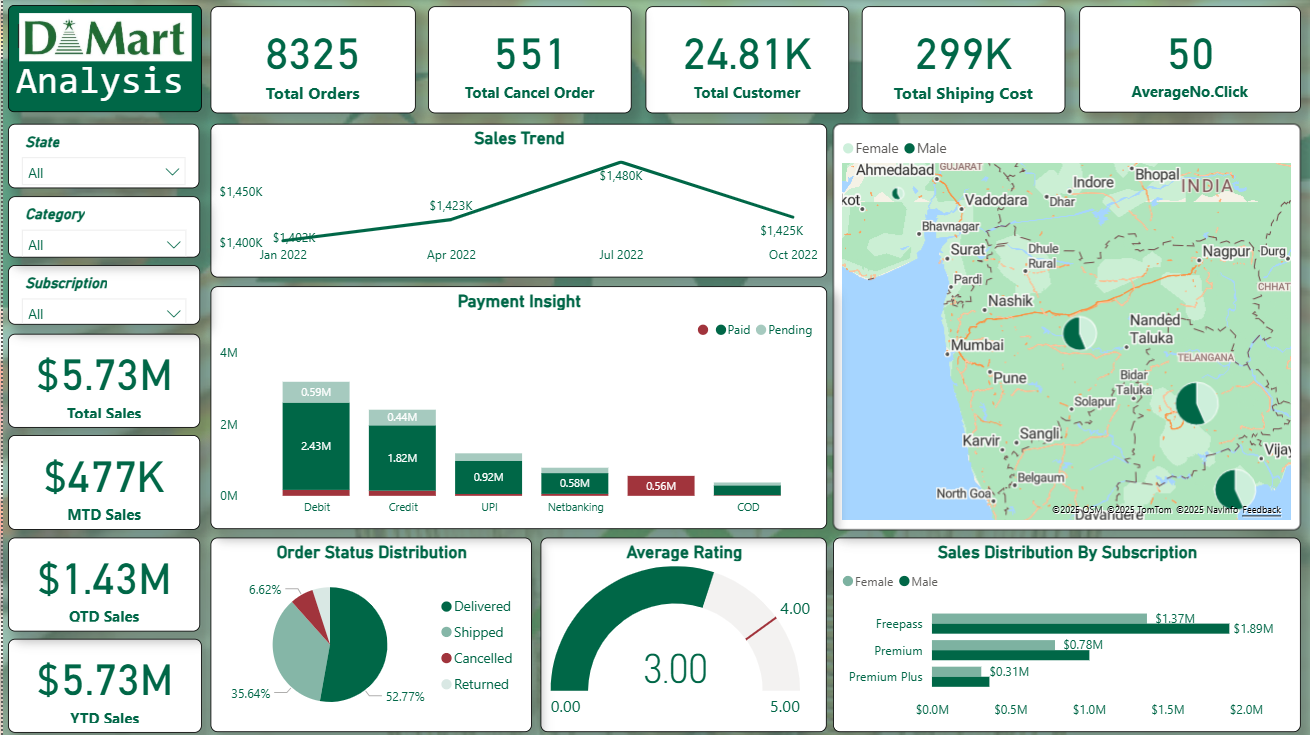

What the dashboard file says about the page in this screenshot:
{"tool":"powerbi","page":{"name":"DMART Analysis Dashboard","canvas":[1280,720],"ordinal":2},"visuals":[{"type":"textbox","box":[4.9,4.9,189.5,105.2],"z":0},{"type":"card","fields":{"Values":["MeasureTable.TotalCustomer"]},"box":[628.5,6.1,199.3,105.2],"z":1000},{"type":"card","fields":{"Values":["Table.Total Sales"]},"box":[4.9,325.9,188.3,91.7],"z":2000},{"type":"card","fields":{"Values":["Table.YTD Sales"]},"box":[4.9,624.9,189.5,91.7],"z":3000},{"type":"card","fields":{"Values":["Table.MTD Sales"]},"box":[4.9,425.1,188.3,92.9],"z":4000},{"type":"card","fields":{"Values":["MeasureTable.QTD Sales"]},"box":[4.9,525.6,188.3,91.7],"z":5000},{"type":"card","fields":{"Values":["MeasureTable.Total Orders"]},"box":[203,6.1,200.5,105.2],"z":6000},{"type":"card","fields":{"Values":["MeasureTable.TotalCancelOrder"]},"box":[416.4,6.1,199.3,105.2],"z":7000},{"type":"card","fields":{"Values":["Measure Table.TotalShipingCost"]},"box":[840.7,6.1,199.3,105.2],"z":8000},{"type":"image","box":[11,0,178.5,72.1],"z":9000},{"type":"gauge","title":"Average Rating","fields":{"Y":["Measure Table.AverageRating"],"TargetValue":["Measure Table.Targete Rating"],"MaxValue":["Measure Table.MaximumRating"]},"box":[525.8,525.8,280,190.8],"z":10000},{"type":"lineChart","title":"Sales Trend","fields":{"Category":["CALENDER.Date.Variation.Date Hierarchy.Year","CALENDER.Date.Variation.Date Hierarchy.Quarter","CALENDER.Date.Variation.Date Hierarchy.Month","CALENDER.Date.Variation.Date Hierarchy.Day"],"Y":["Measure Table.Total Sales"]},"box":[203,121.1,602.9,150.4],"z":11000},{"type":"card","fields":{"Values":["MeasureTable.AverageNo.Click"]},"box":[1052.9,6.1,216.4,103.9],"z":12000},{"type":"clusteredBarChart","title":"Sales Distribution By Subscription","fields":{"Category":["Customers.Subscription"],"Y":["Measure Table.Total Sales"],"Series":["Customers.Gender"]},"box":[812,525.8,457.3,190.8],"z":14000},{"type":"azureMap","title":"Regional Distribution","fields":{"Category":["Customers.State","Customers.City"],"Size":["Measure Table.Total Sales"],"Series":["Customers.Gender"]},"box":[812,121.1,457.3,397.4],"z":15000},{"type":"pieChart","title":"Order Status Distribution","fields":{"Category":["Dmart.Order Status"],"Y":["CountNonNull(Dmart.Order ID)"]},"box":[203,525.8,314.3,190.8],"z":16000},{"type":"columnChart","title":"Payment Insight","fields":{"Series":["Dmart.Payment Status"],"Category":["Dmart.Payment Method"],"Y":["Sum(Dmart.MRP)"]},"box":[203,280,602.9,237.2],"z":17000},{"type":"slicer","fields":{"Values":["Customers.State"]},"box":[4.9,121.1,187.1,63.6],"z":18000},{"type":"slicer","fields":{"Values":["Customers.Subscription"]},"box":[4.9,259.6,188.3,58.7],"z":19000},{"type":"slicer","fields":{"Values":["Products.Category"]},"box":[4.9,192.2,188.3,59.9],"z":20000}]}

Visuals, with their boxes in screenshot pixels (x1, y1, x2, y2), scaled from the page's 1280x720 canvas onto the 1310x735 screenshot:
textbox: (5,5,199,112)
card - MeasureTable.TotalCustomer: (643,6,847,114)
card - Table.Total Sales: (5,333,198,426)
card - Table.YTD Sales: (5,638,199,732)
card - Table.MTD Sales: (5,434,198,529)
card - MeasureTable.QTD Sales: (5,537,198,630)
card - MeasureTable.Total Orders: (208,6,413,114)
card - MeasureTable.TotalCancelOrder: (426,6,630,114)
card - Measure Table.TotalShipingCost: (860,6,1064,114)
image: (11,0,194,74)
"Average Rating" gauge: (538,537,825,732)
"Sales Trend" lineChart: (208,124,825,277)
card - MeasureTable.AverageNo.Click: (1078,6,1299,112)
"Sales Distribution By Subscription" clusteredBarChart: (831,537,1299,732)
"Regional Distribution" azureMap: (831,124,1299,529)
"Order Status Distribution" pieChart: (208,537,529,732)
"Payment Insight" columnChart: (208,286,825,528)
slicer - Customers.State: (5,124,196,189)
slicer - Customers.Subscription: (5,265,198,325)
slicer - Products.Category: (5,196,198,257)
